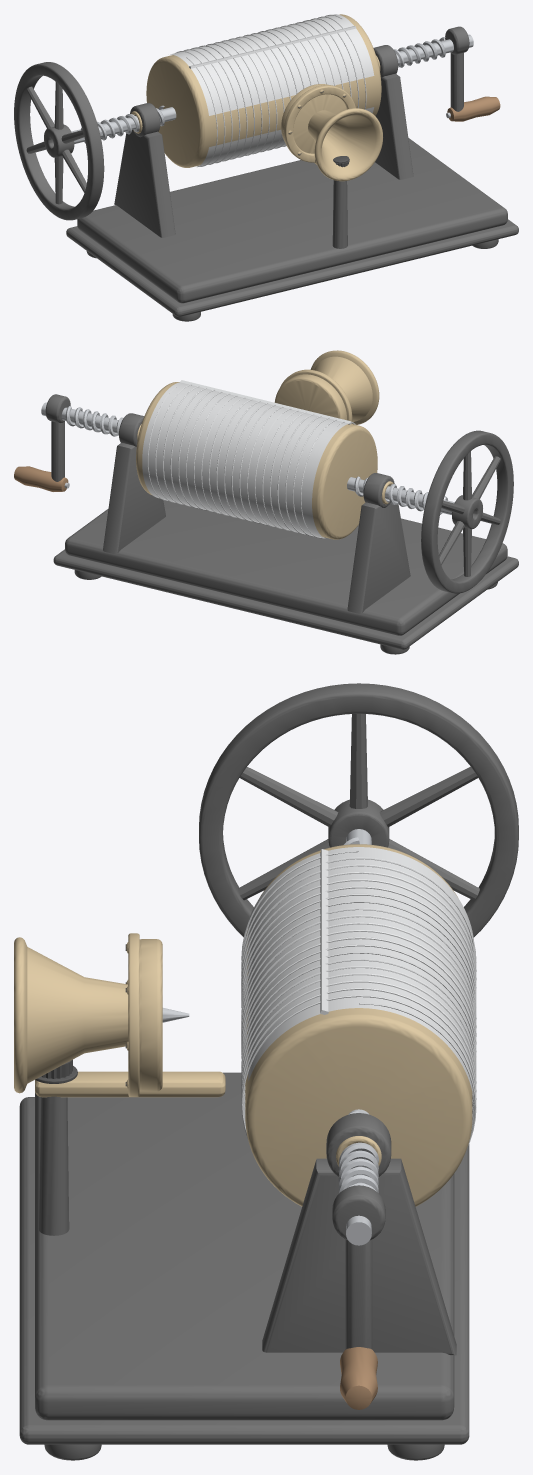
The model's file is phonograph.glb.
3 views of the same model, one above another, from view 1: azimuth 30°, elevation 25°; view 2: azimuth 150°, elevation 25°; view 3: azimuth 270°, elevation 25° (orthographic). The views are drawn at different scales.
Parts seen in each view (by area): view 1: base, cylinder, screw, mouthpiece, diaphragm, crank; view 2: base, cylinder, screw, mouthpiece, diaphragm, crank; view 3: base, cylinder, screw, diaphragm, mouthpiece, crank.
Boxes of the visible parts, x1,y1,x2,y2 form: base: (66,45,518,321); cylinder: (146,14,381,167); screw: (14,34,473,220); mouthpiece: (308,108,382,181); diaphragm: (281,84,355,248); crank: (445,26,500,121); base: (53,413,518,654); cylinder: (136,380,377,539); screw: (41,402,513,593); mouthpiece: (310,350,379,424); diaphragm: (274,369,352,421); crank: (14,394,70,491); base: (19,1072,469,1460); cylinder: (241,844,476,1206); screw: (199,683,518,1245); diaphragm: (35,933,225,1235); mouthpiece: (14,937,128,1093); crank: (332,1185,385,1409).
Bounding box in the file's own units: 2.71 × 1.21 × 1.33.
